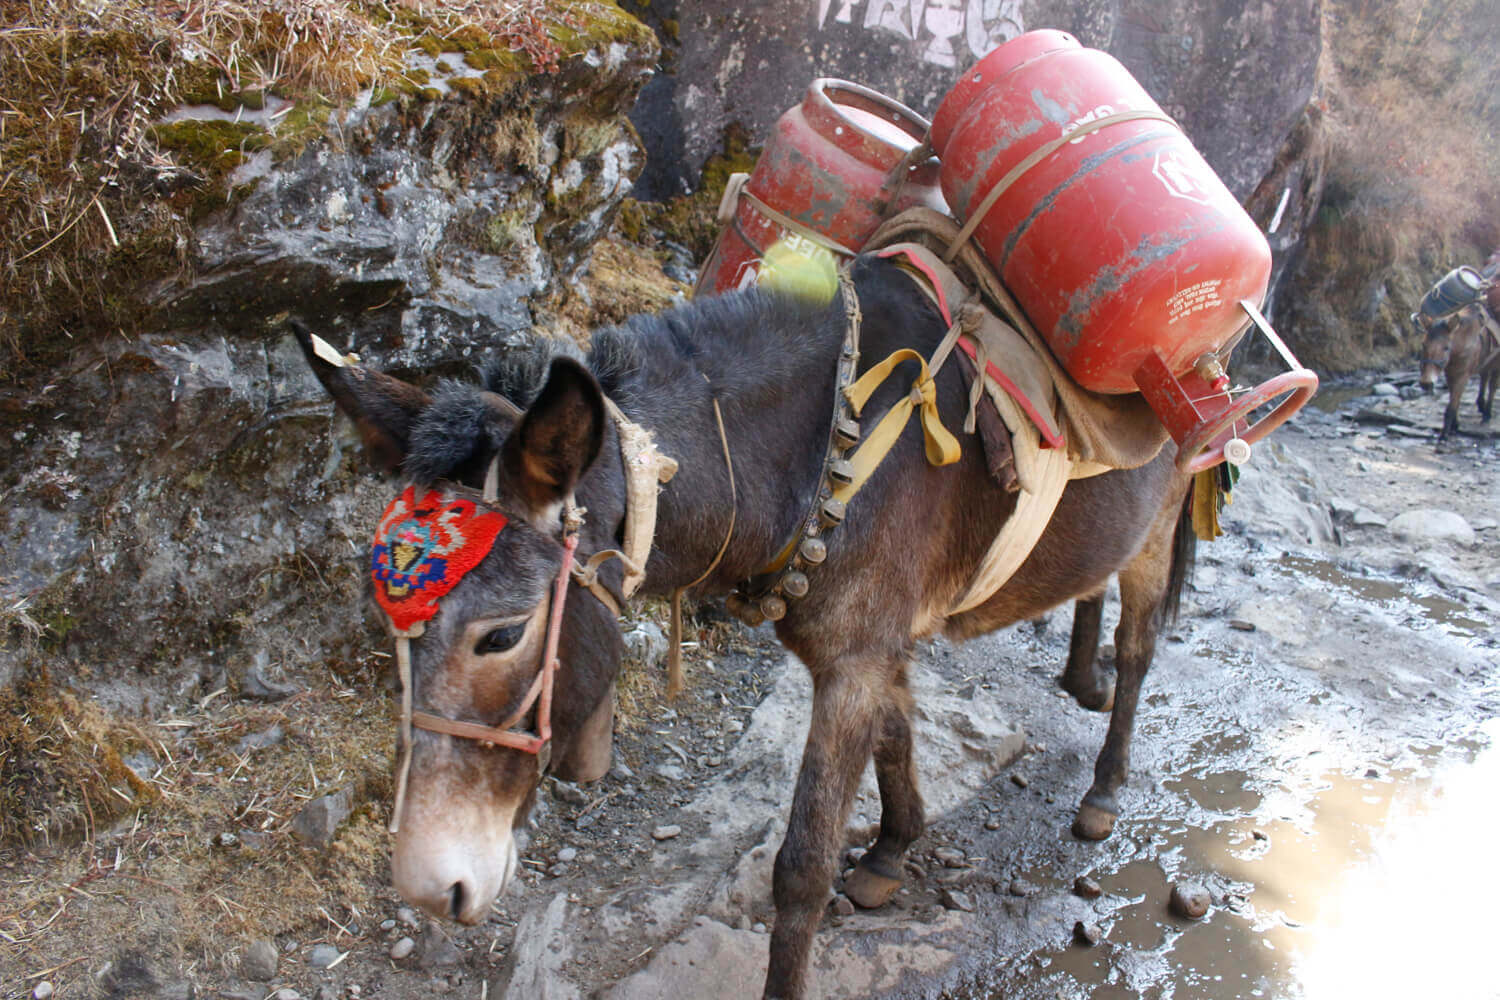equine: (217, 225, 1268, 1000)
